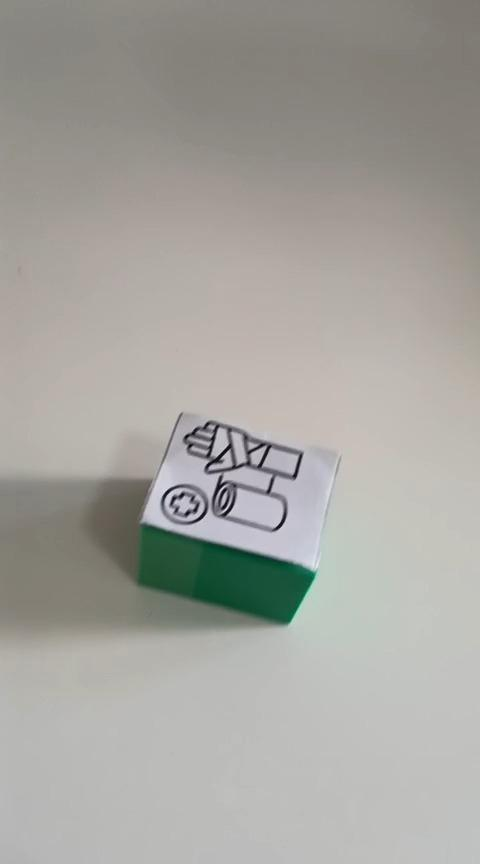Bandages: (135, 411, 342, 625)
